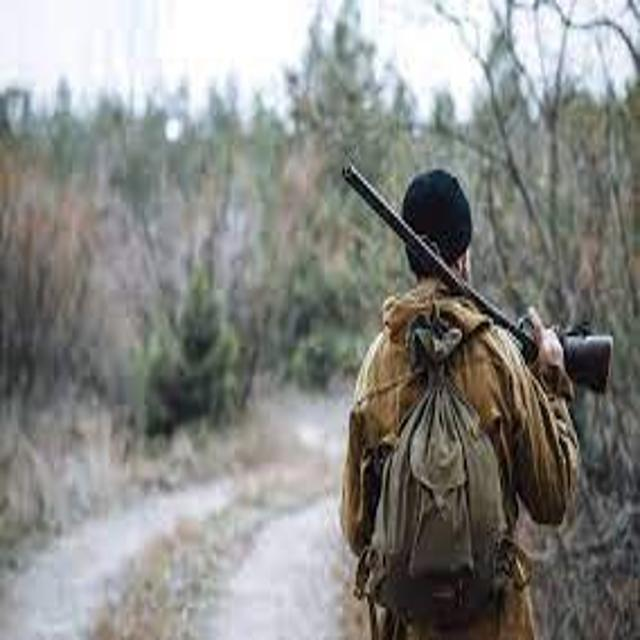gun: (331, 138, 630, 433)
poacher: (315, 136, 628, 640)
